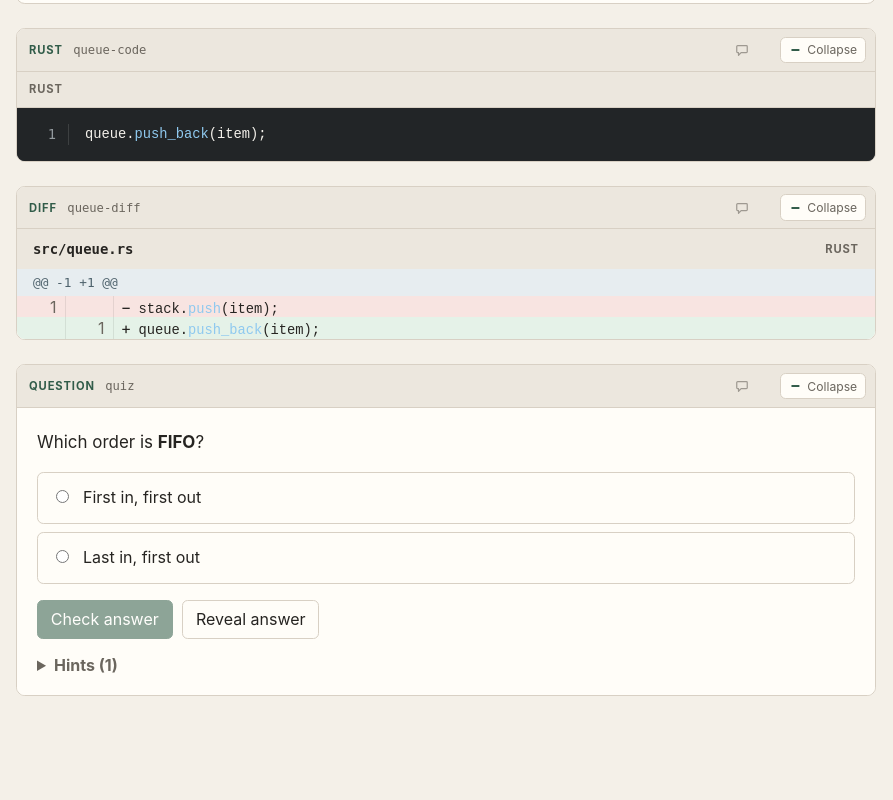
Scenario: App › submits a generated choice id and adopts server-owned progress
The image size is (893, 800).
(page scrolled)
Click the radio button labelled "First in, first out" at [62, 496], box left=56, top=490, right=69, bottom=503
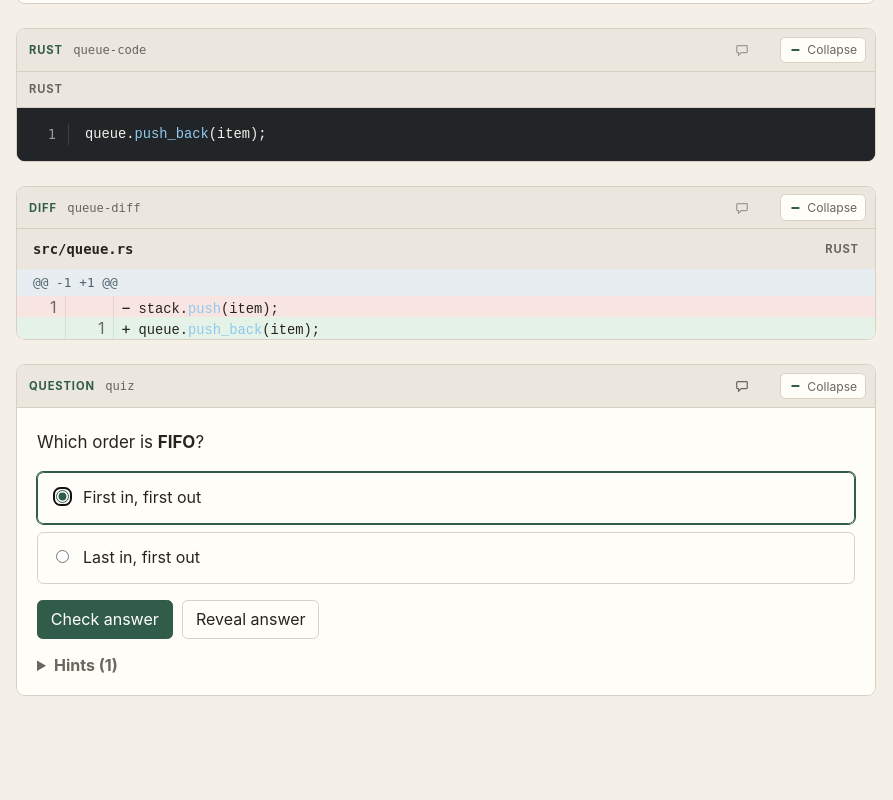
Click the button "Check answer" at [105, 619], box left=37, top=600, right=172, bottom=639
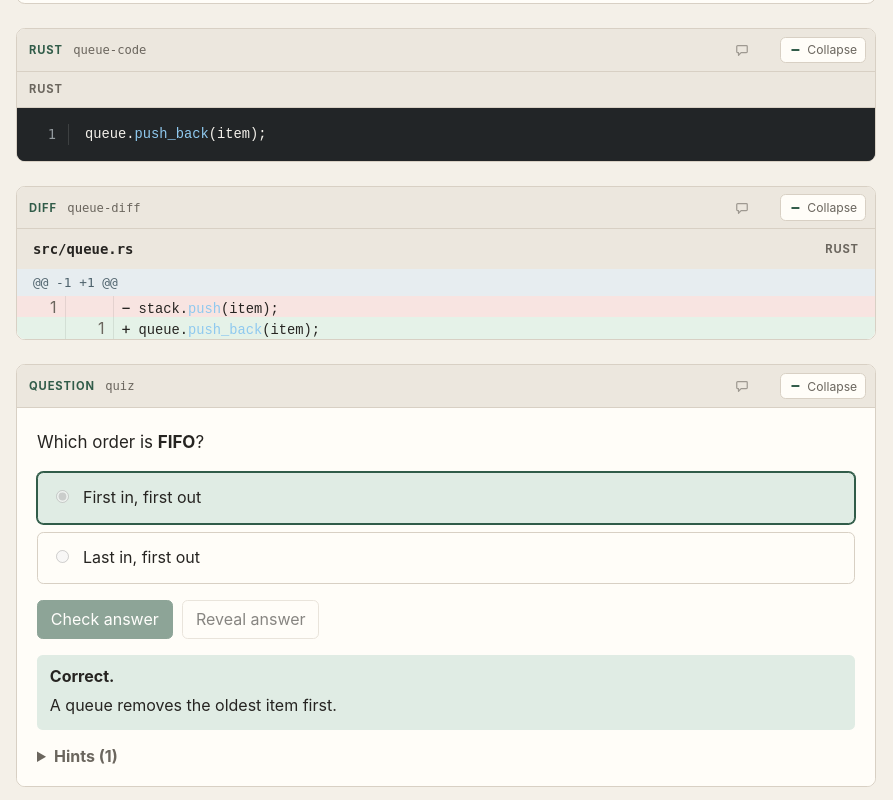
expect the text "Correct." is shown: met, box left=50, top=666, right=114, bottom=686
expect the text "A queue removes the oldest item first." is shown: met, box left=50, top=695, right=337, bottom=715
